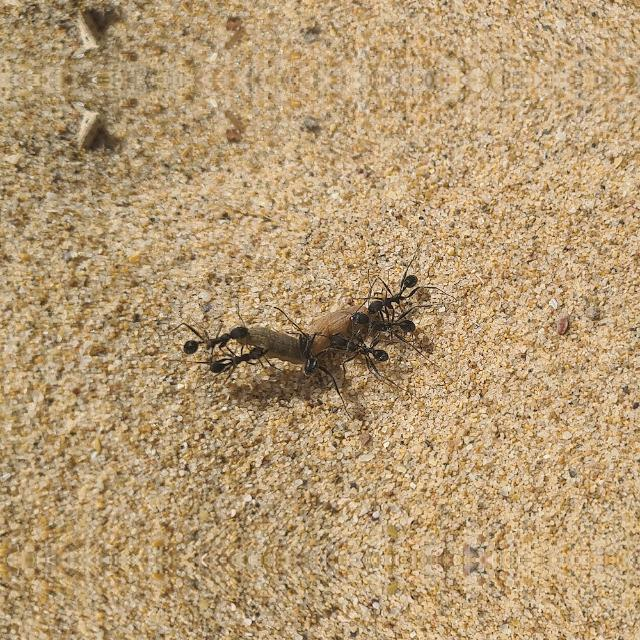Apheanogaster: (348, 268, 428, 320), (175, 319, 255, 359), (328, 330, 398, 368), (346, 308, 426, 340), (203, 342, 271, 378), (286, 326, 330, 378)
